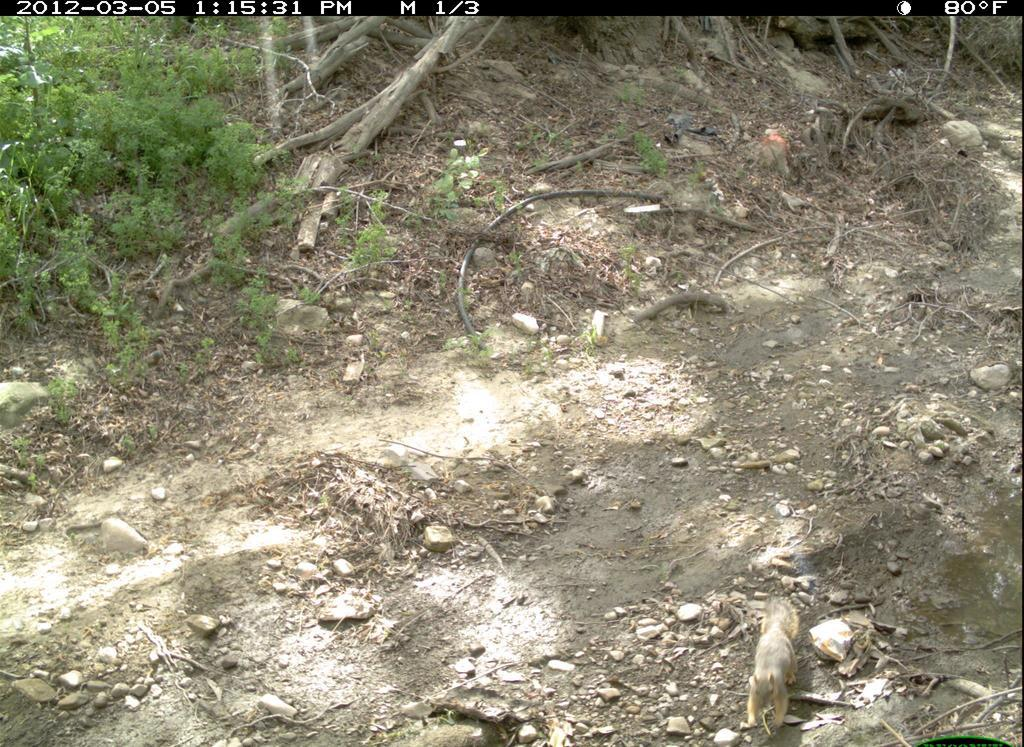squirrel: (728, 591, 818, 735)
